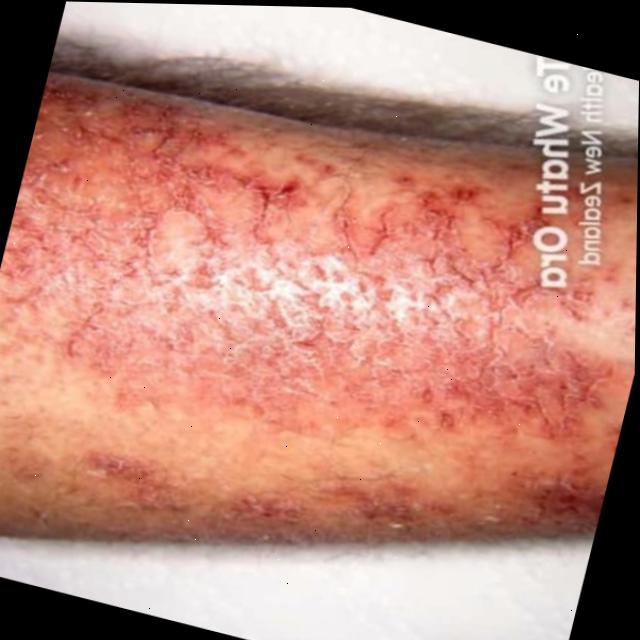Eczema: (0, 35, 639, 602)
